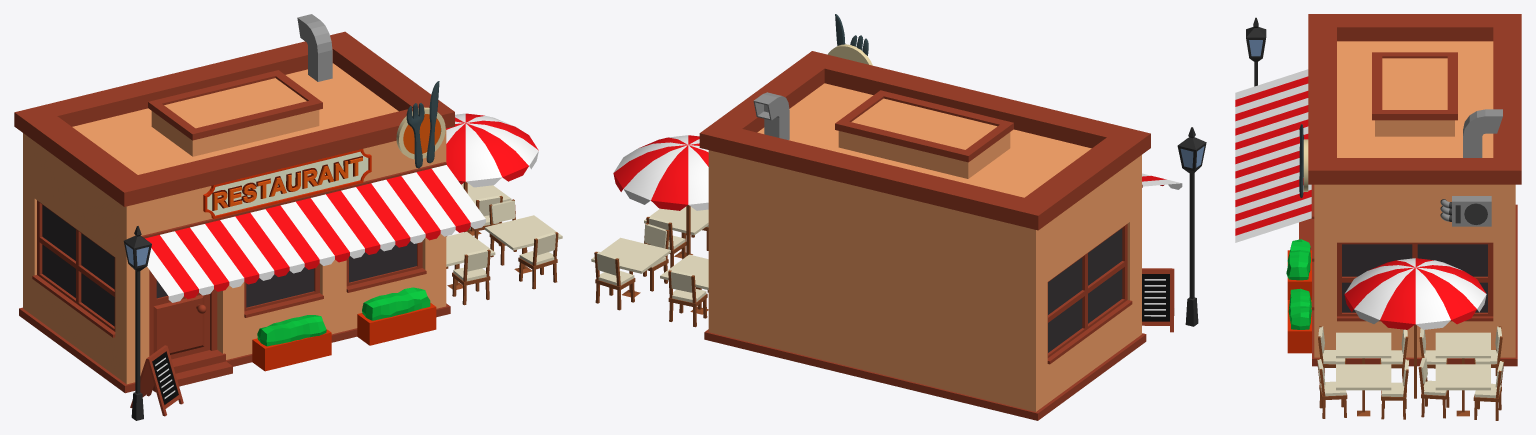
File: low_poly_generic_restaurant.glb
3 views of the same model, side by side, from view 1: azimuth 30°, elevation 25°; view 2: azimuth 150°, elevation 25°; view 3: azimuth 270°, elevation 25° (orthographic). The views are drawn at different scales.
Parts seen in each view (by area): view 1: RestaurantBuilding, RestaurantTables, RestaurantPlants, RestaurantLight, RestaurantBoard; view 2: RestaurantBuilding, RestaurantTables, RestaurantBoard, RestaurantLight; view 3: RestaurantBuilding, RestaurantTables, RestaurantPlants, RestaurantLight.
Part boxes in pixels (box(x1,y1,x2,y2)): RestaurantBuilding: box(14, 14, 485, 393); RestaurantTables: box(446, 113, 562, 305); RestaurantPlants: box(252, 287, 436, 371); RestaurantLight: box(123, 226, 151, 420); RestaurantBoard: box(130, 345, 183, 416); RestaurantBuilding: box(699, 14, 1182, 420); RestaurantTables: box(591, 135, 708, 327); RestaurantBoard: box(1142, 268, 1174, 332); RestaurantLight: box(1177, 127, 1206, 326); RestaurantBuilding: box(1235, 14, 1521, 366); RestaurantTables: box(1317, 258, 1504, 420); RestaurantPlants: box(1286, 239, 1311, 353); RestaurantLight: box(1246, 17, 1266, 86).
Size of what is drawn, in the model's own units: 5.38 by 2.57 by 2.85.
1 material, 1 textured.
